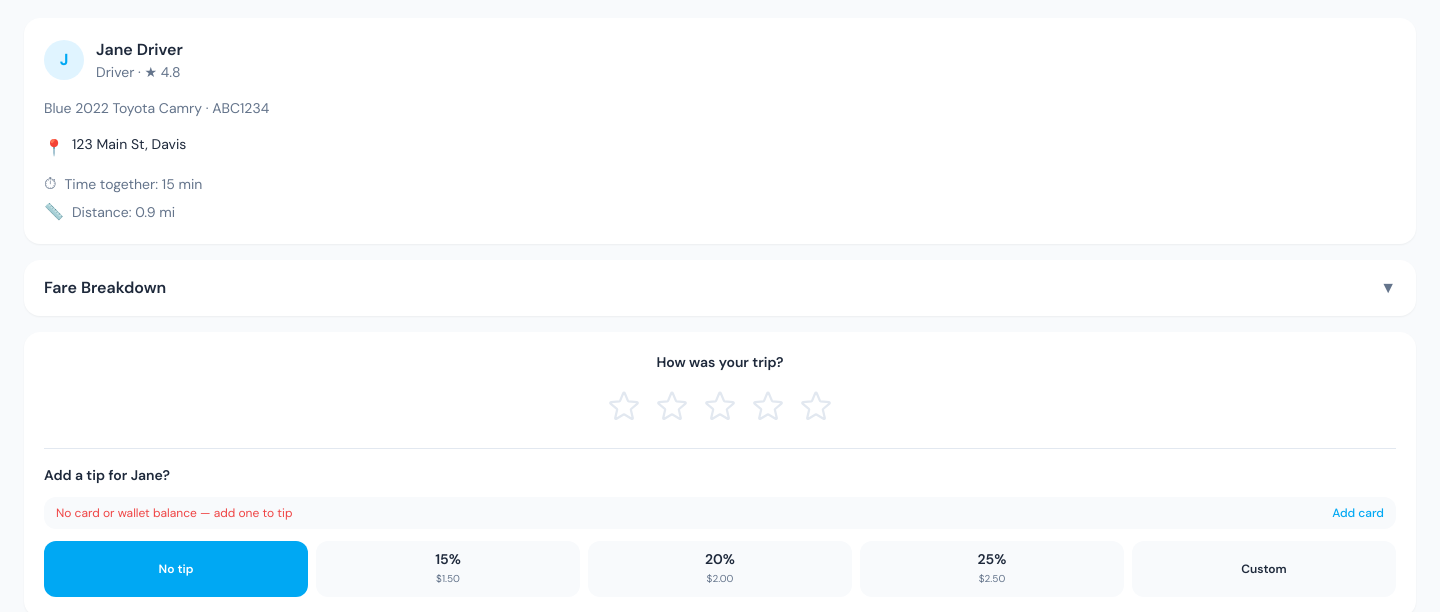
Test: RideSummaryPage › Rider view › low rating shows comment textarea + issue-style tags
This screenshot has width=1440, height=612.
(page scrolled)
Expected: the element with test id "star-row" is shown, [602,384,838,428]
2 stars → low rating
Click the button with test id "star-2": click(672, 406) [650,384,694,428]
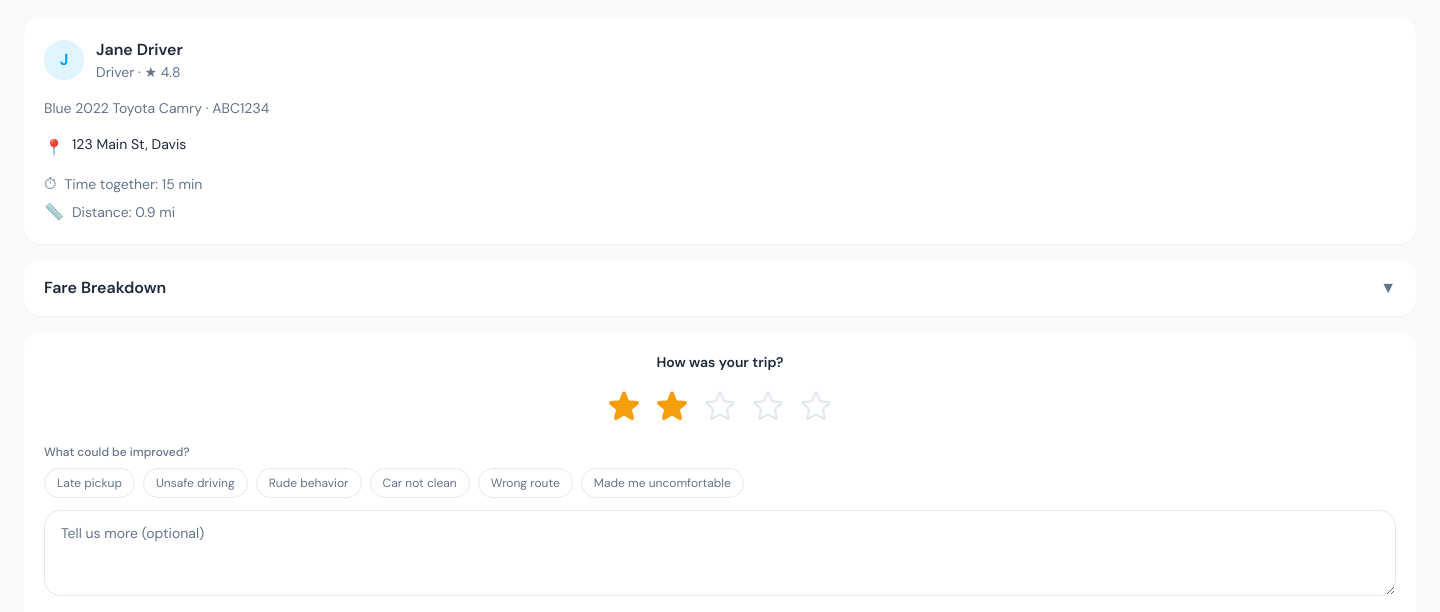
Result: the text "What could be improved?" is shown at [44,444,190,460]
Result: the text box with test id "comment-input" is shown at [44,510,1396,596]
Result: the button with test id "tag-Late pickup" is shown at [44,468,135,498]
Flip up to 5 stars → tags should switch to positive set, no comment
Click the button with test id "star-5": click(816, 406) [794,384,838,428]
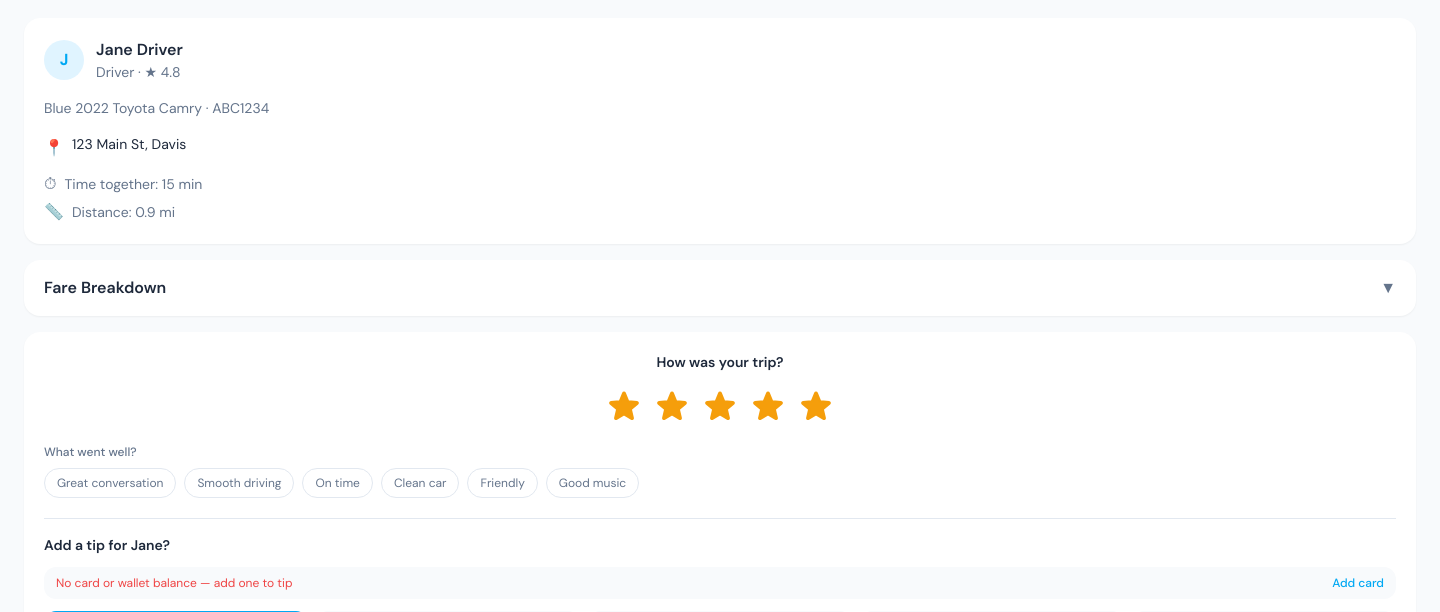
Result: the text "What went well?" is shown at [44,444,137,460]
Result: the text box with test id "comment-input" is gone
Result: the button with test id "tag-Smooth driving" is shown at [184,468,294,498]
